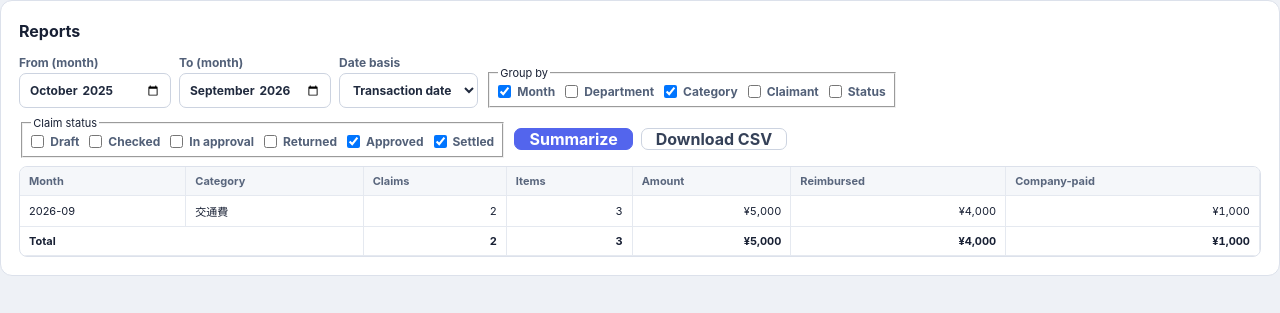
ReportsLedger › 境界: 期間が逆・36 か月超え・未入力は送らずに直し方を出す
This screenshot has width=1280, height=313.
Check: the table named "Expense summary" is shown, box [20, 167, 1260, 256]
Replace the text in the field labelled "From (month)" with "2026-10". click: (95, 90)
box: [19, 73, 171, 108]
Replace the text in the field labelled "To (month)" with "2026-01". click: (255, 90)
box: [179, 73, 331, 108]
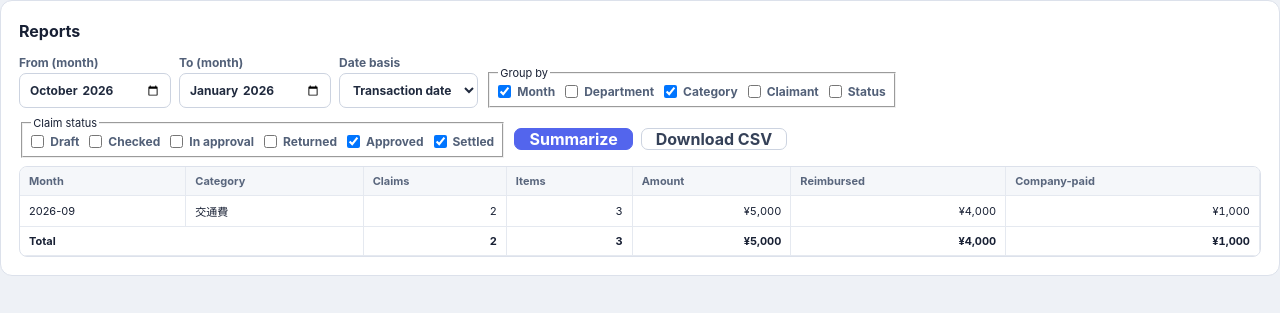
Click the button "Summarize". click: (574, 139)
box: [514, 128, 633, 150]
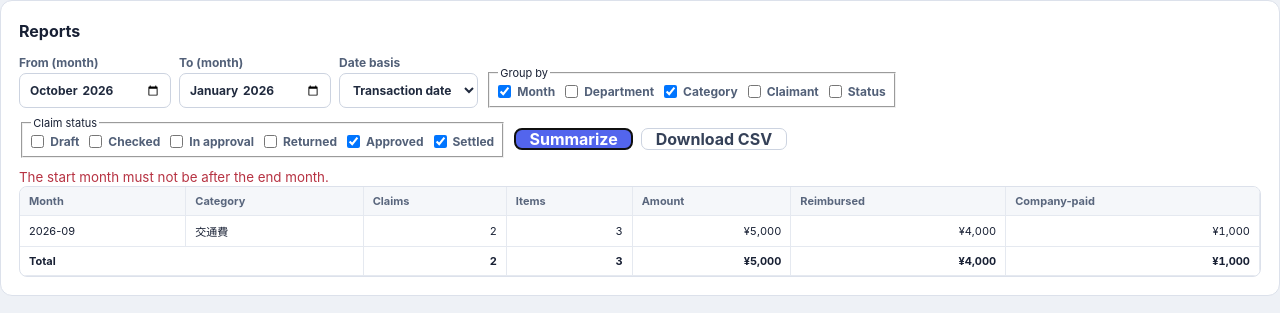
Check: the text "The start month must not be after the end month." is shown, box [19, 169, 329, 185]
Replace the text in the field labelled "From (month)" with "2023-01". click: (95, 90)
box: [19, 73, 171, 108]
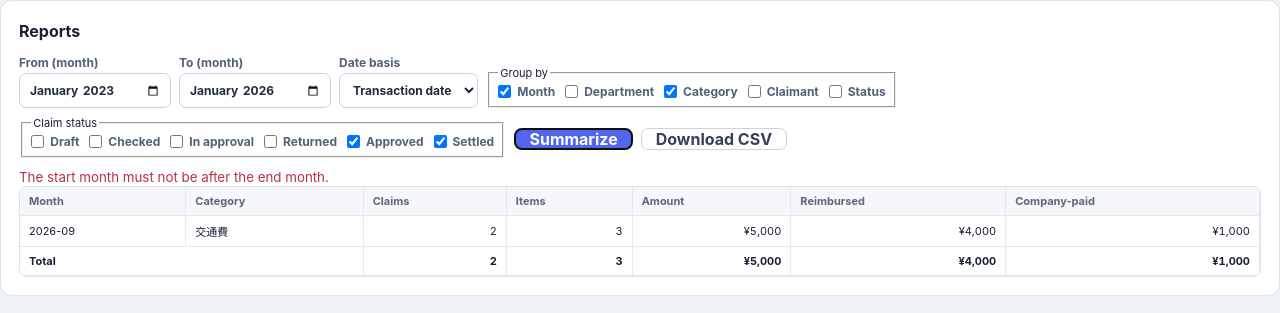
Click the button "Download CSV". click: (714, 139)
box: [641, 128, 787, 150]
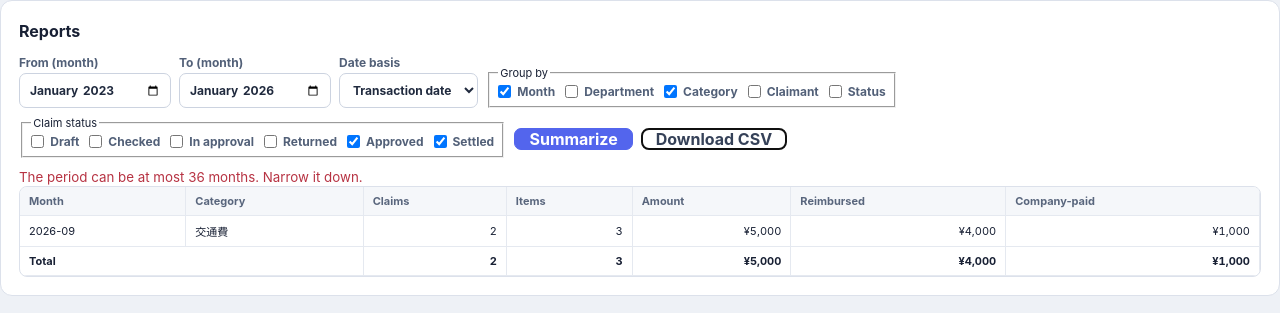
Check: the text "The period can be at most 36 months. Narrow it down." is shown, box [19, 169, 363, 185]
Clear the field labelled "From (month)". click: (95, 90)
box: [19, 73, 171, 108]
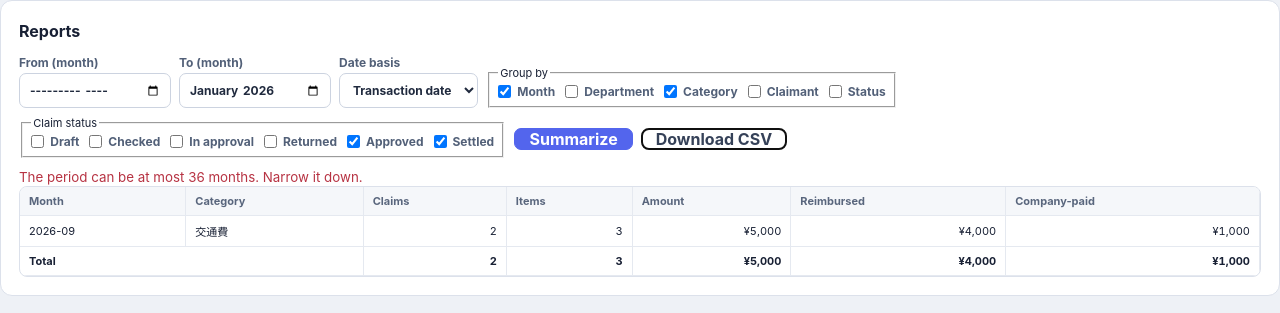
Click the button "Summarize". click: (574, 139)
box: [514, 128, 633, 150]
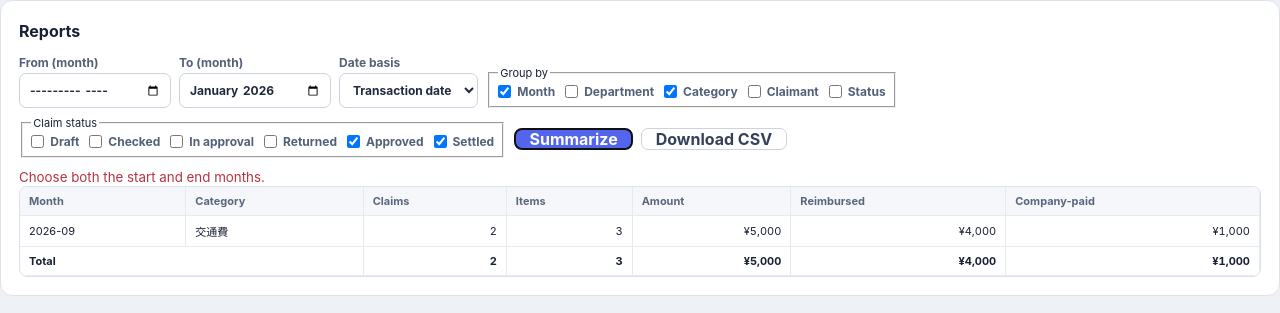
Check: the text "Choose both the start and end months." is shown, box [19, 169, 265, 185]
